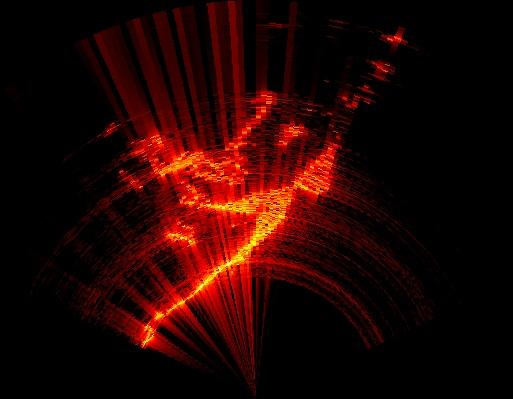shipwreck: (142, 134, 341, 341), (133, 93, 275, 188), (164, 231, 194, 249)
